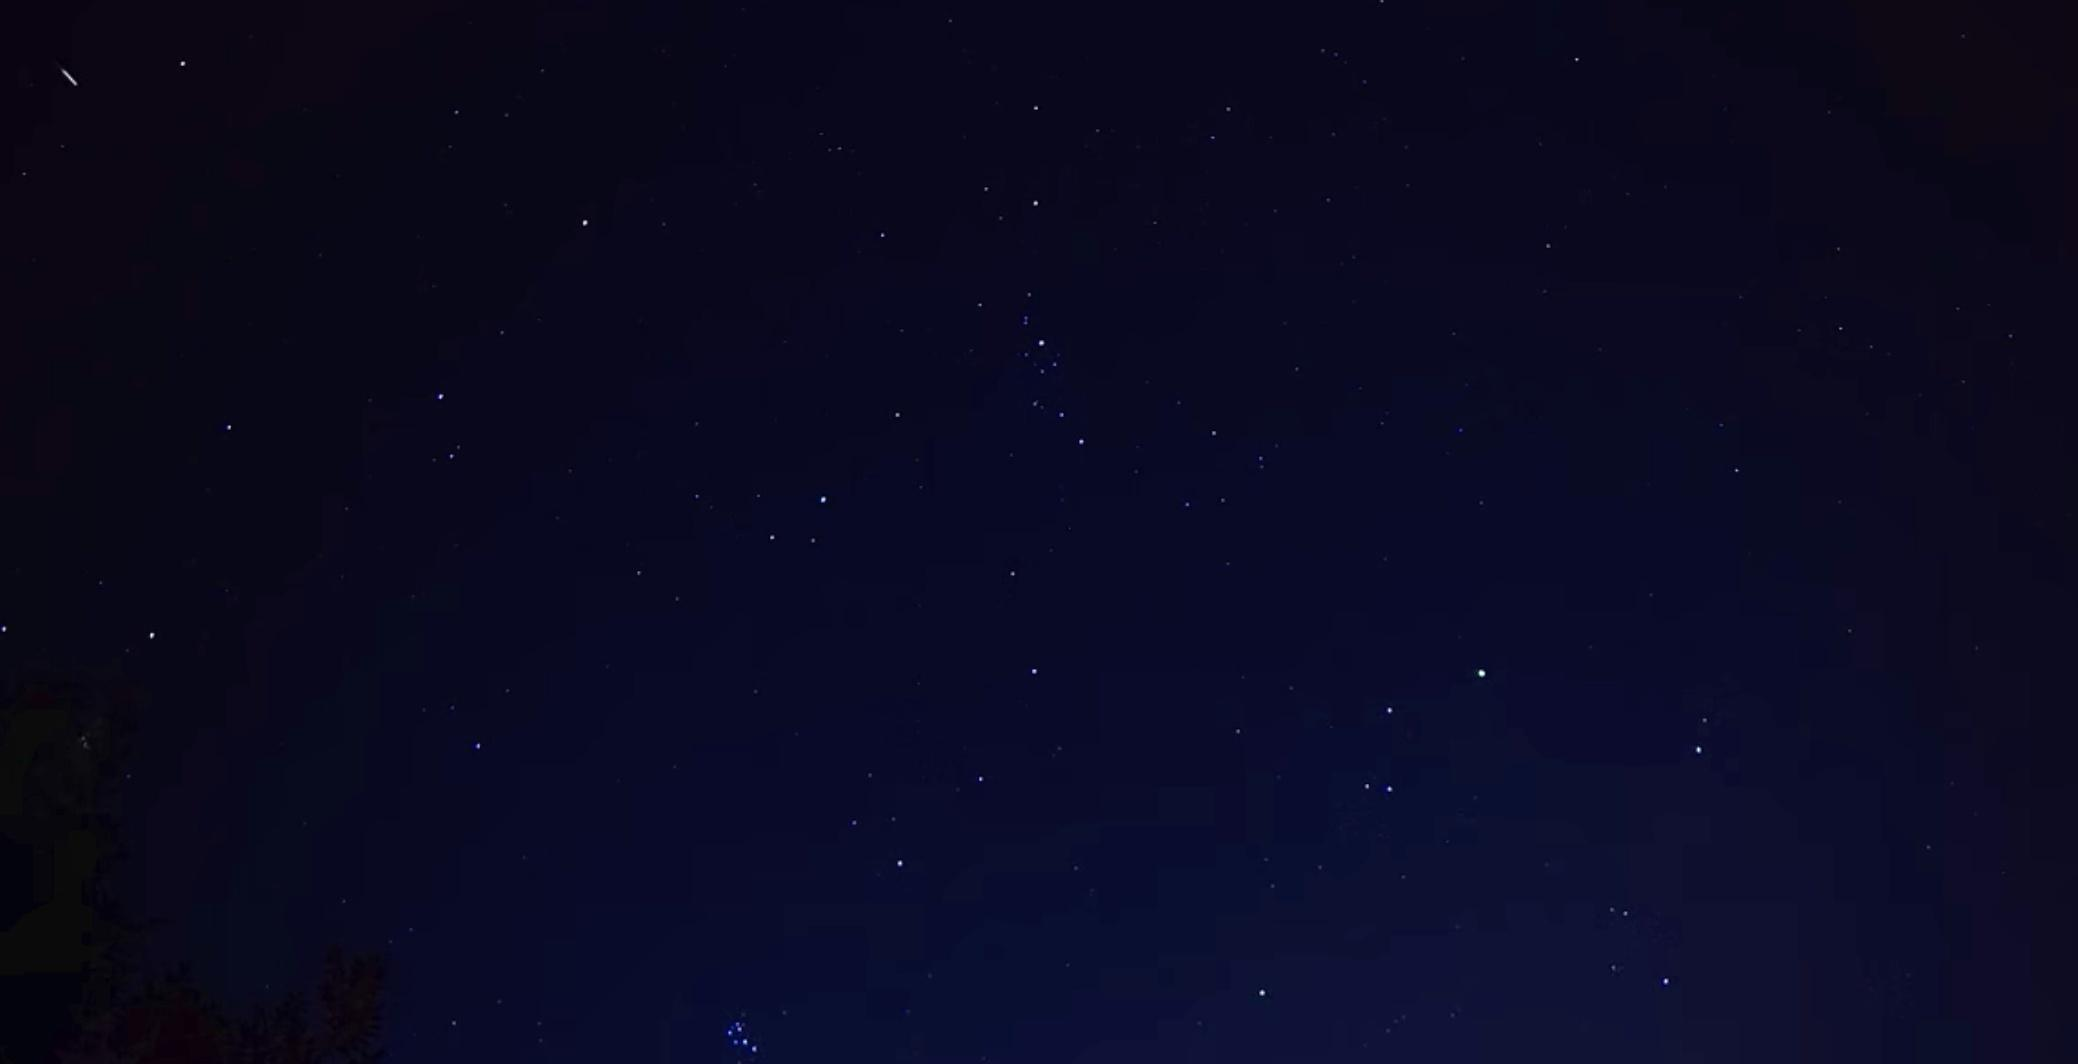meteorite: (15, 56, 128, 96)
